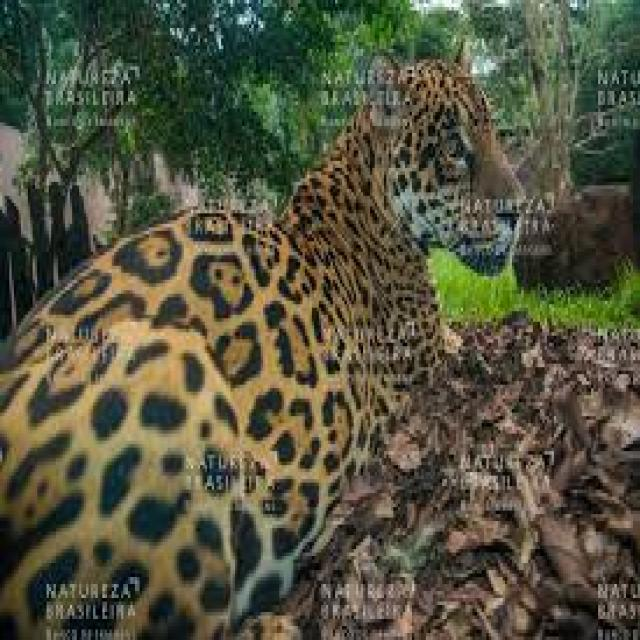Jaguar: (0, 38, 528, 639)
